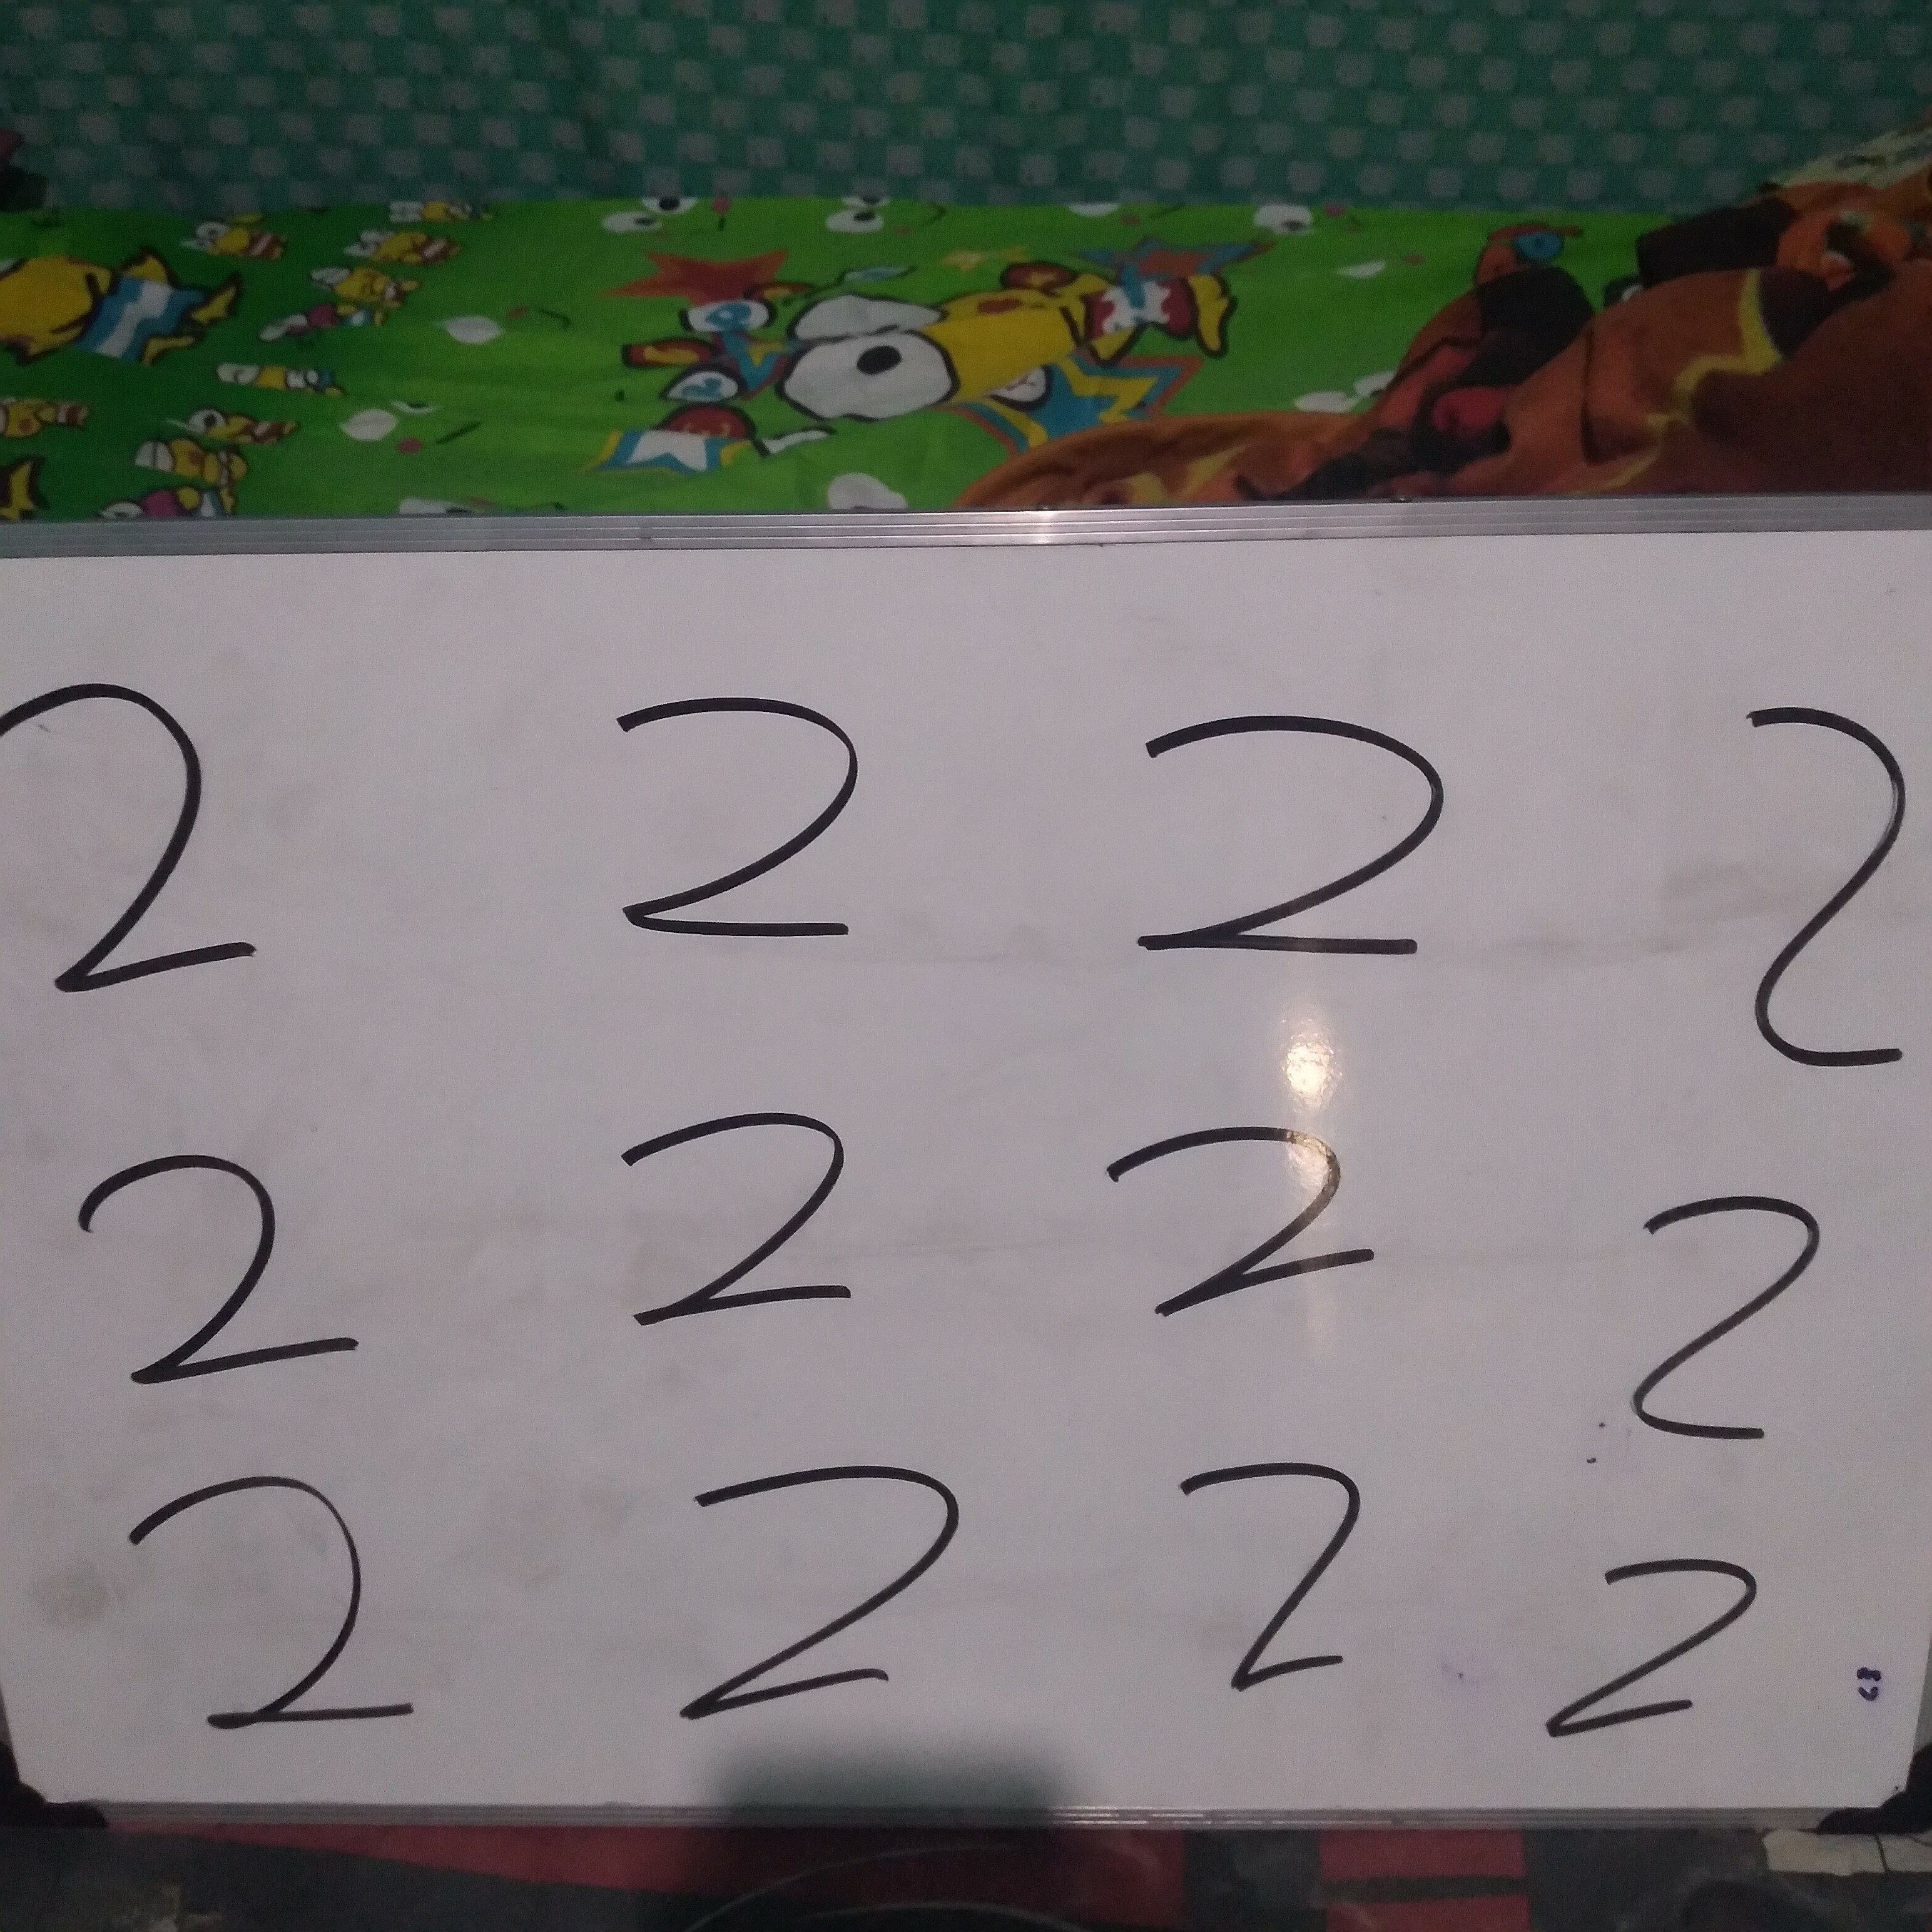num2: (1, 641, 295, 1058), (73, 1032, 368, 1449), (668, 1365, 963, 1781), (583, 632, 878, 1049), (579, 1039, 928, 1373), (1063, 1060, 1413, 1393), (1530, 1147, 1879, 1480), (1124, 649, 1474, 982), (1110, 1405, 1459, 1738), (98, 1434, 447, 1767), (1671, 686, 1932, 1099), (1524, 1533, 1772, 1761)
